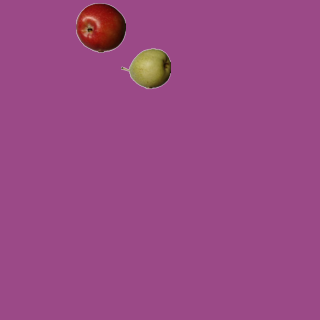Apple Braeburn: (75, 2, 125, 52)
Pear: (120, 43, 170, 93)
